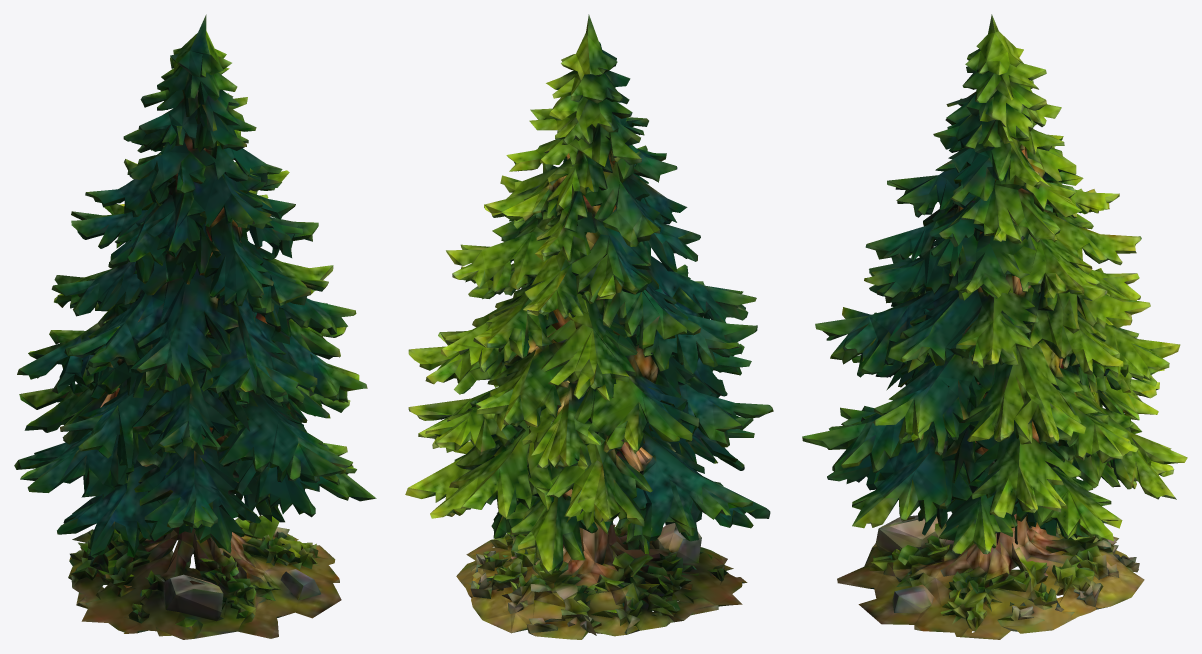
The model's file is pineTree.glb.
3 renders of one model, left to right at view 1: azimuth 30°, elevation 25°; view 2: azimuth 150°, elevation 25°; view 3: azimuth 270°, elevation 25°, orthographic.
Parts seen in each view (by area): view 1: geometry_0; view 2: geometry_0; view 3: geometry_0.
Part boxes in pixels (x1,y1,x2,y2): geometry_0: (14, 14, 376, 639); geometry_0: (405, 14, 773, 639); geometry_0: (802, 14, 1187, 639).
Size of the model in its own units: 0.6074 by 0.9993 by 0.6118.
Materials: 1 (1 with a texture image).
